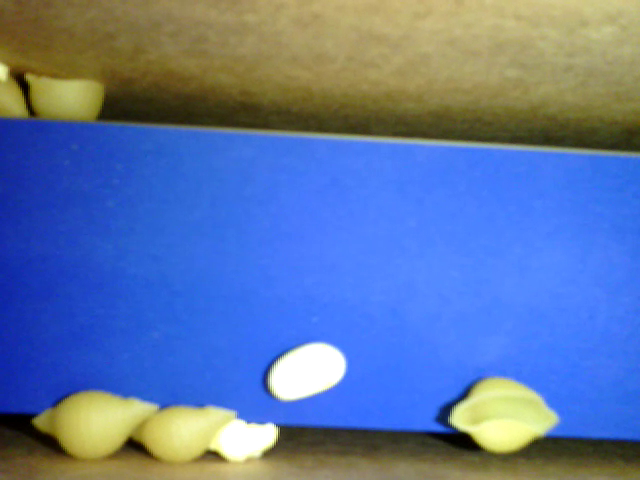shell: (33, 387, 158, 464), (444, 374, 560, 453), (125, 402, 235, 466), (28, 72, 108, 125)
